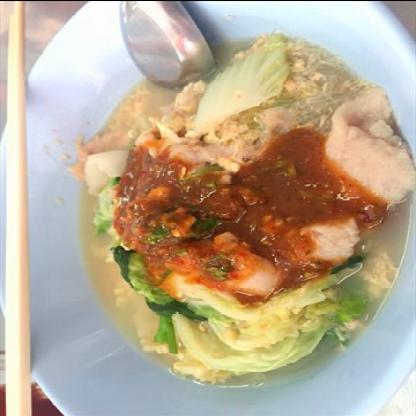Suki: (68, 28, 402, 387)
